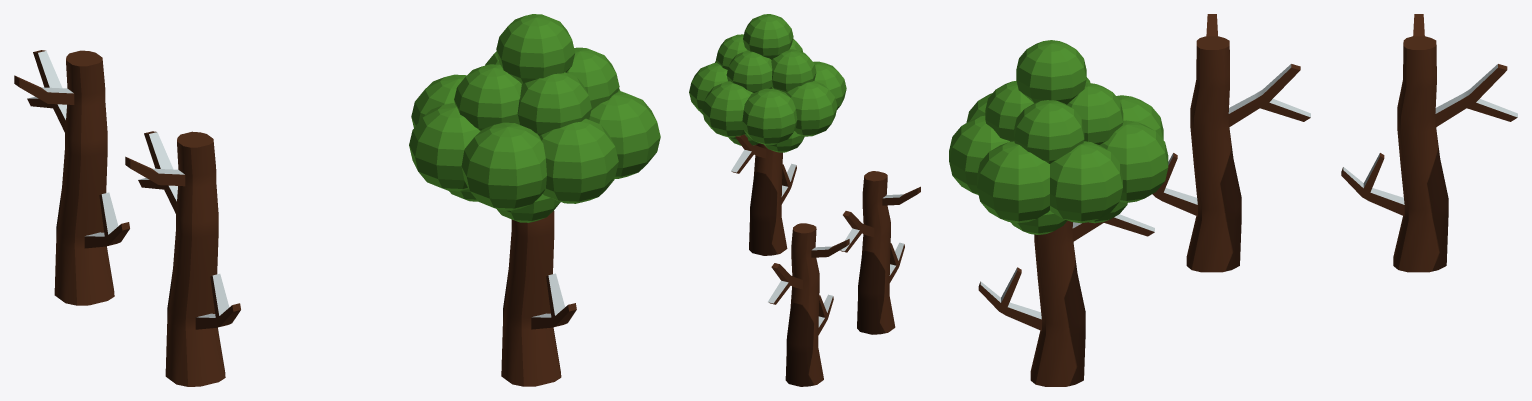
The picture shows the model from 3 angles, left to right: view 1: azimuth 30°, elevation 25°; view 2: azimuth 150°, elevation 25°; view 3: azimuth 270°, elevation 25°; orthographic projection. The views are drawn at different scales.
Parts seen in each view (by area): view 1: pSphere26, pCube10, pCube19, pCube31; view 2: pSphere26, pCube10, pCube19, pCube31; view 3: pSphere26, pCube10, pCube19, pCube31.
Boxes of the visible parts, left/top/right/bottom form: pSphere26: left=409, top=14, right=660, bottom=222; pCube10: left=14, top=50, right=129, bottom=305; pCube19: left=125, top=131, right=240, bottom=386; pCube31: left=501, top=211, right=576, bottom=386; pSphere26: left=689, top=14, right=846, bottom=152; pCube10: left=768, top=223, right=849, bottom=386; pCube19: left=840, top=171, right=920, bottom=334; pCube31: left=731, top=134, right=796, bottom=255; pSphere26: left=949, top=40, right=1168, bottom=234; pCube10: left=1341, top=14, right=1517, bottom=272; pCube19: left=1152, top=14, right=1310, bottom=272; pCube31: left=978, top=214, right=1154, bottom=386.
Bounding box in the file's own units: 32.87 × 26.57 × 41.08.
